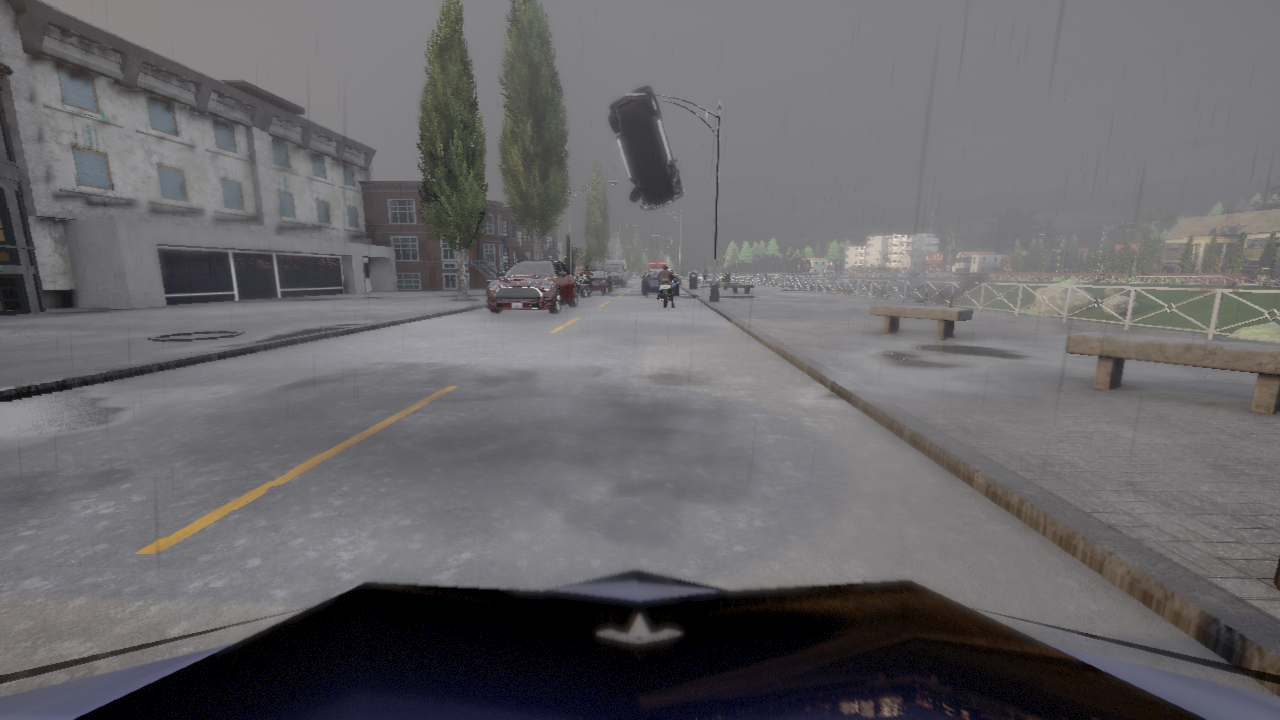cyclist: (0, 569, 1279, 719), (608, 85, 685, 210), (487, 259, 577, 313), (640, 269, 679, 295), (576, 269, 612, 293), (654, 277, 675, 307), (603, 259, 626, 286), (579, 272, 592, 297), (642, 268, 662, 279), (649, 263, 666, 267)
pedestrian: (702, 267, 707, 284)
